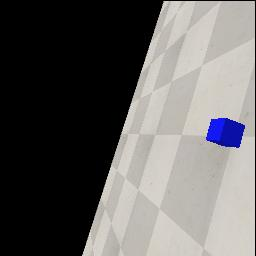box: (206, 118, 245, 148)
